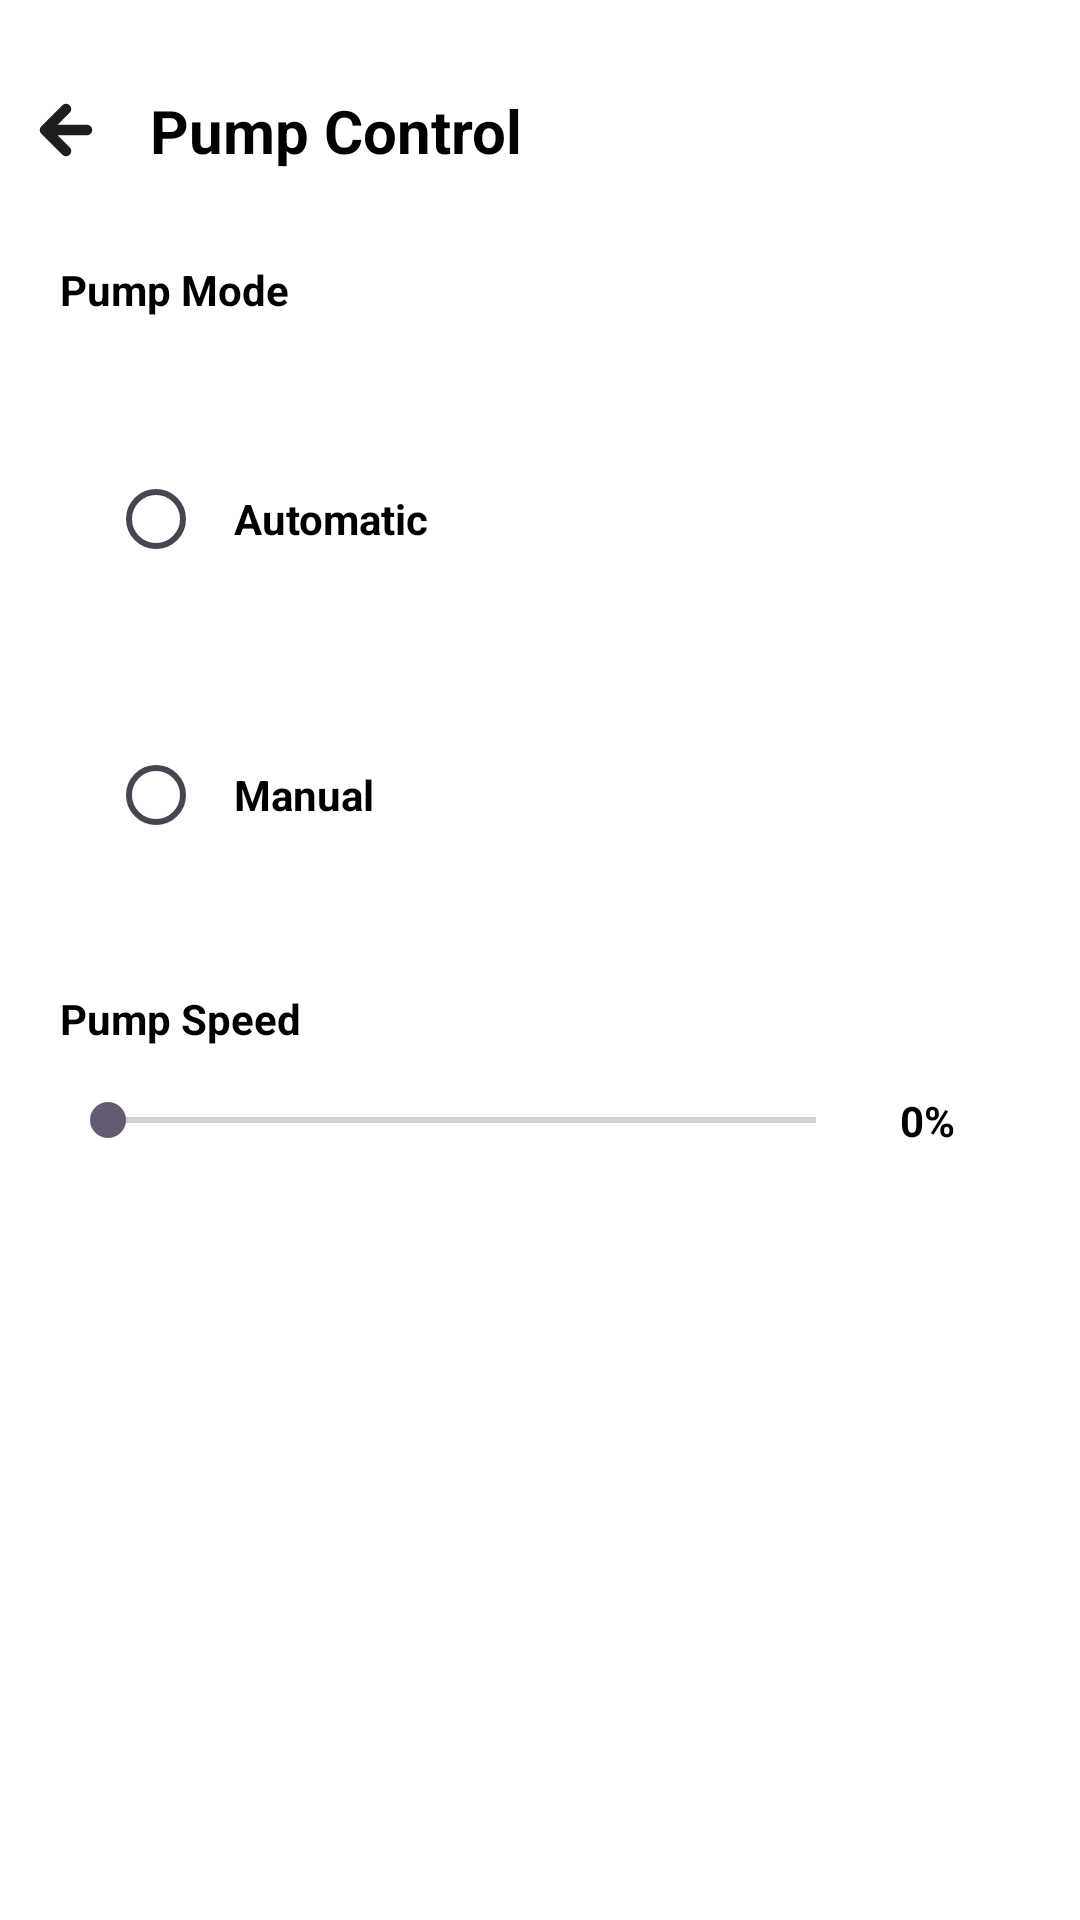

Named icons in this screenshot (1080w x 1920h) and their bounding boxes, (x1,y1,x2,y2):
arrow: (39,103,93,157)
